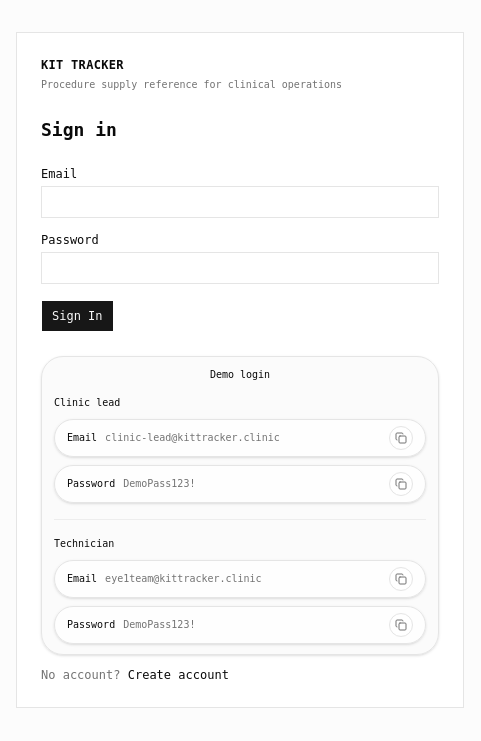
Login › shows server error message when sign-in fails
The width and height of the screenshot is (481, 741).
Step 1. Type "test@example.com" into the field labelled "Email" → [240, 202], box [41,186,439,218]
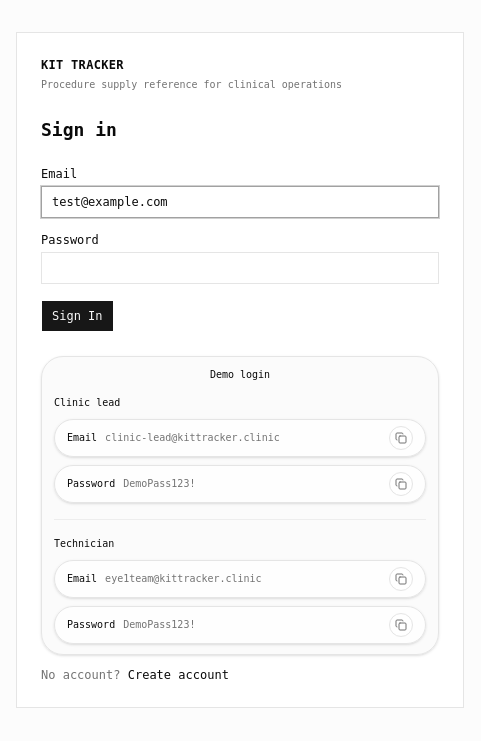
Step 2. Type "wrongpass" into the password field labelled "Password" → [240, 268], box [41,252,439,284]
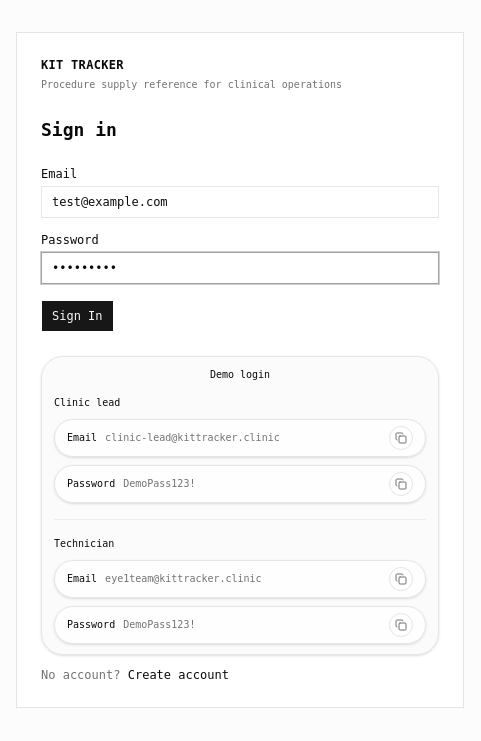
Step 3. Click the button "Sign In" → [77, 316], box [41,300,114,332]
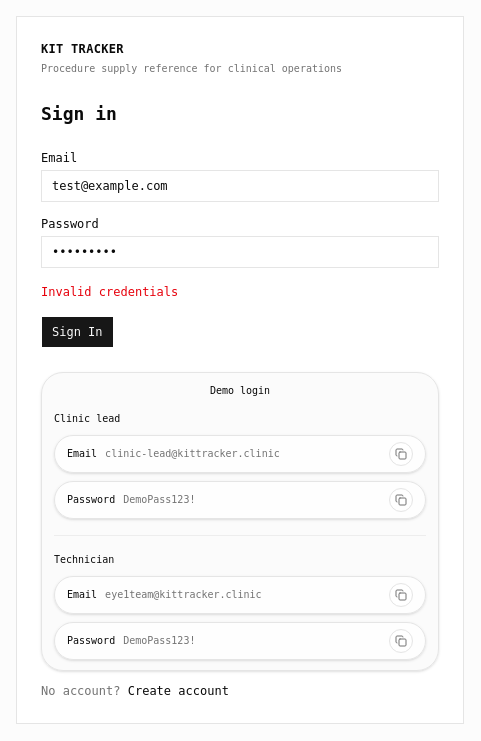
Result: the message reads "Invalid credentials" at [41,285,178,299]
